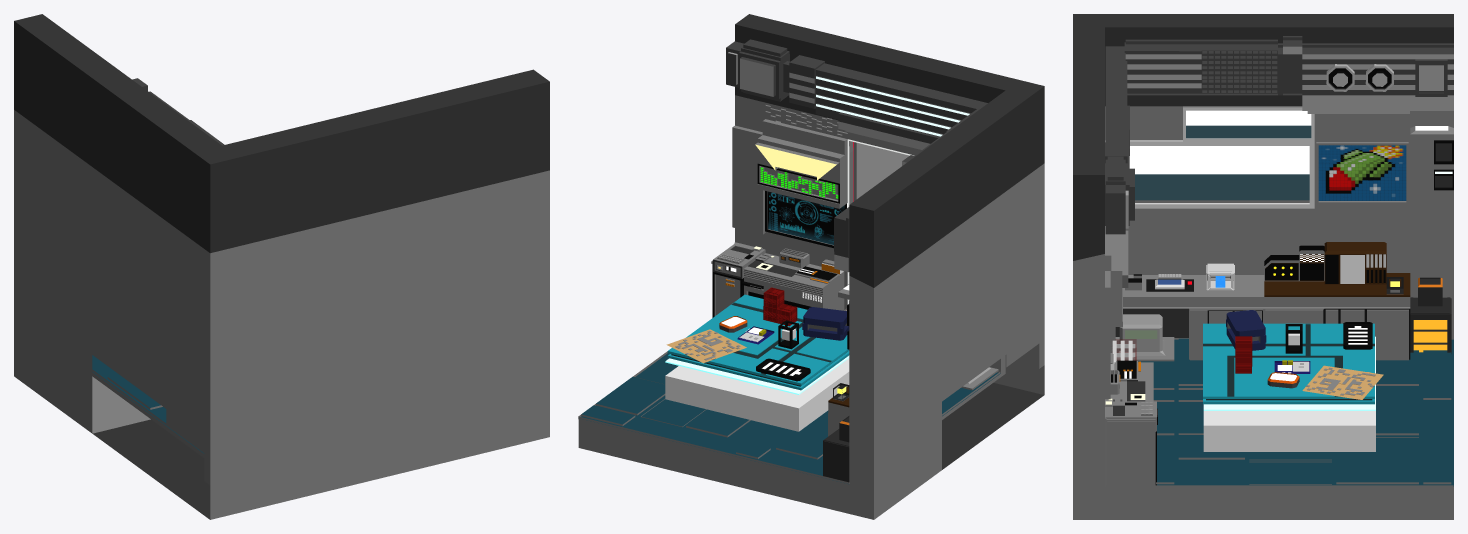
The model's file is scifiinterior.glb.
The picture shows the model from 3 angles, left to right: view 1: azimuth 30°, elevation 25°; view 2: azimuth 150°, elevation 25°; view 3: azimuth 270°, elevation 25°; orthographic projection. The views are drawn at different scales.
Parts seen in each view (by area): view 1: Cube, floor; view 2: Cube, Cube.001, floor, force field, Cube.003, Cube.005, Cube.002, table light, table; view 3: Cube, floor, Cube.001, table, Cube.003, force field, Cube.005, pane1, Cube.002, pane2, table light, Cube.004.
Boxes of the visible parts, x1=… form: Cube: x1=14, y1=14, x2=549, y2=519; floor: x1=92, y1=355, x2=204, y2=457; Cube: x1=578, y1=14, x2=1044, y2=519; Cube.001: x1=726, y1=39, x2=987, y2=272; floor: x1=578, y1=351, x2=1005, y2=487; force field: x1=665, y1=358, x2=849, y2=431; Cube.003: x1=667, y1=294, x2=849, y2=390; Cube.005: x1=666, y1=287, x2=849, y2=381; Cube.002: x1=823, y1=416, x2=849, y2=482; table light: x1=665, y1=355, x2=849, y2=394; table: x1=828, y1=383, x2=849, y2=436; Cube: x1=1073, y1=14, x2=1453, y2=519; floor: x1=1105, y1=314, x2=1453, y2=491; Cube.001: x1=1105, y1=36, x2=1453, y2=234; table: x1=1123, y1=242, x2=1410, y2=360; Cube.003: x1=1203, y1=323, x2=1374, y2=404; force field: x1=1203, y1=411, x2=1375, y2=451; Cube.005: x1=1226, y1=310, x2=1383, y2=399; pane1: x1=1129, y1=146, x2=1309, y2=174; Cube.002: x1=1410, y1=277, x2=1451, y2=353; pane2: x1=1186, y1=110, x2=1311, y2=125; table light: x1=1203, y1=336, x2=1375, y2=410; Cube.004: x1=1285, y1=324, x2=1302, y2=353.
Bounding box in the file's own units: 9.03 × 9 × 9.
78 materials, 2 textured.
